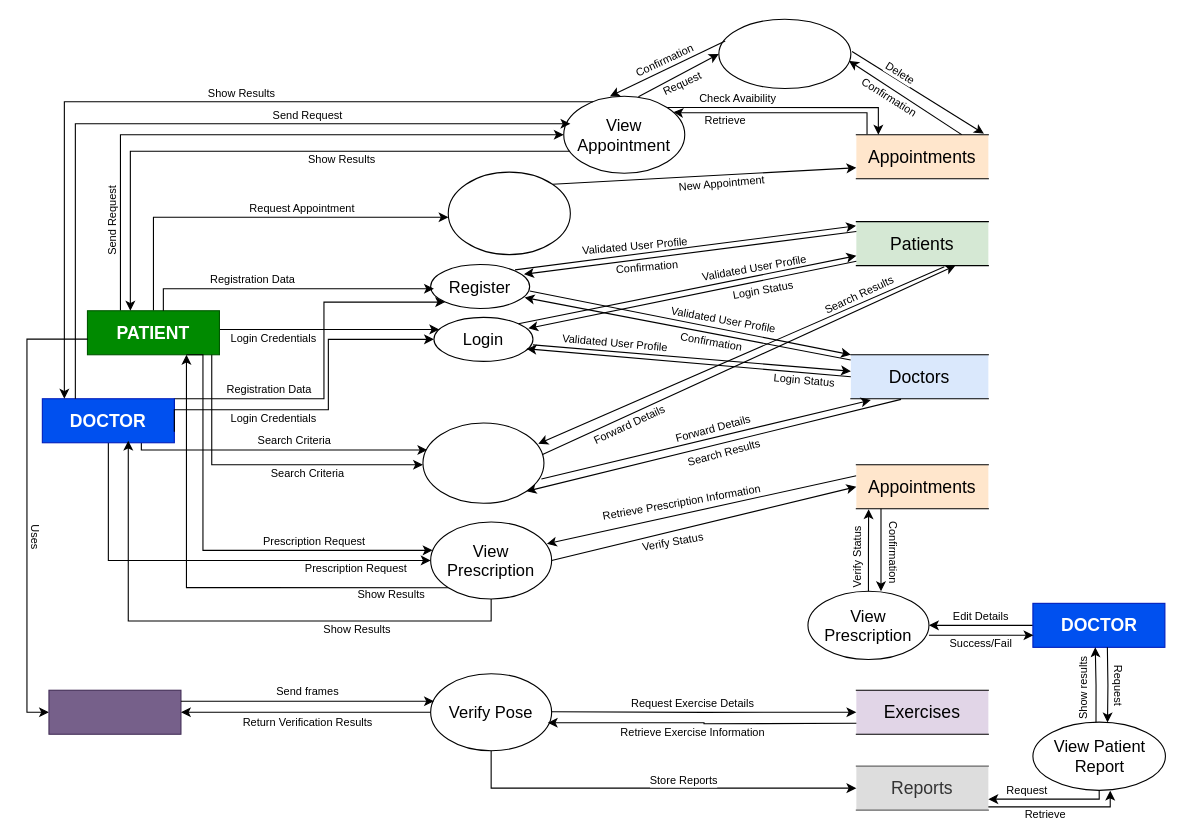
This 1185x840 diagram has some shape labels left out. The shapes that lost their labels are listed below. From the top down, each one's centre as x and y in pixels, then its label:
point 784,53: Cancel Appointment
point 508,213: Book Appointment
point 483,462: Search
point 114,711: CAMERA
